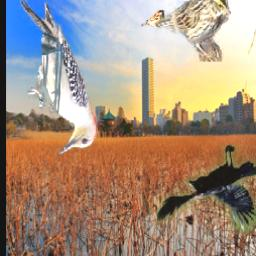Crow: (157, 146, 256, 235)
Sparrow: (156, 0, 230, 63), (141, 9, 165, 27)
Woodpecker: (19, 0, 100, 157)
